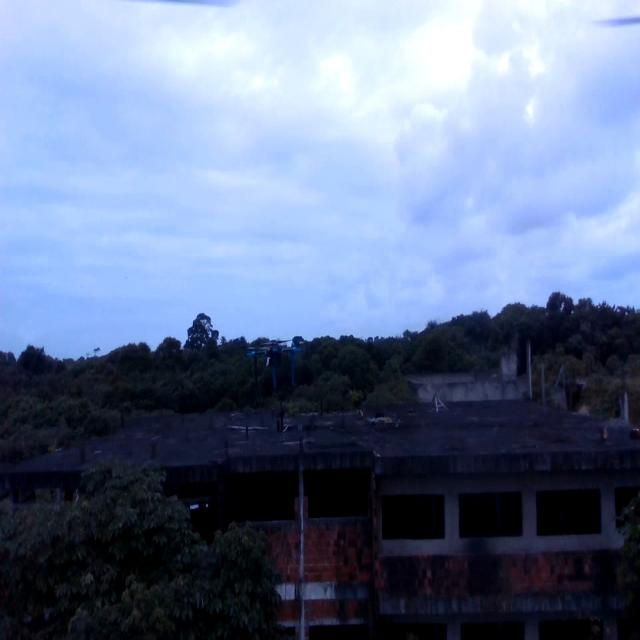-uav-: (234, 332, 308, 400)
